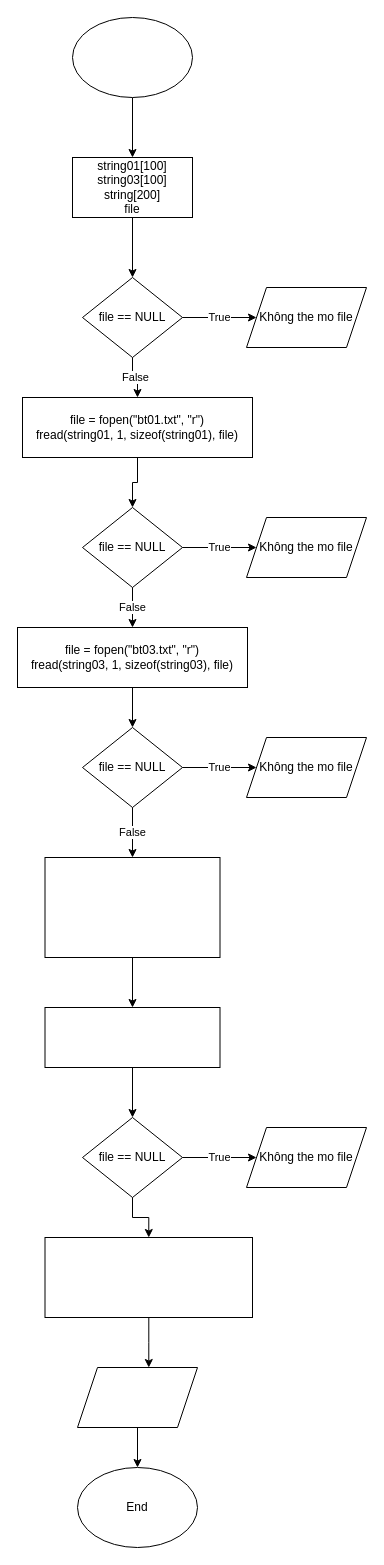
Some shapes in this 384 by 1565 pixel diagram are drawn without their labels. Each missing label, with the centre of its shape:
file = fopen("bt05.txt", "w"): (x=132, y=1037)
fwrite(string, 1, strlen(string), file): (x=148, y=1277)
Start: (x=132, y=57)
strcpy(string, string01); strcat(string,"\n"); strcat(string, string03);: (x=132, y=907)
string: (x=137, y=1397)
